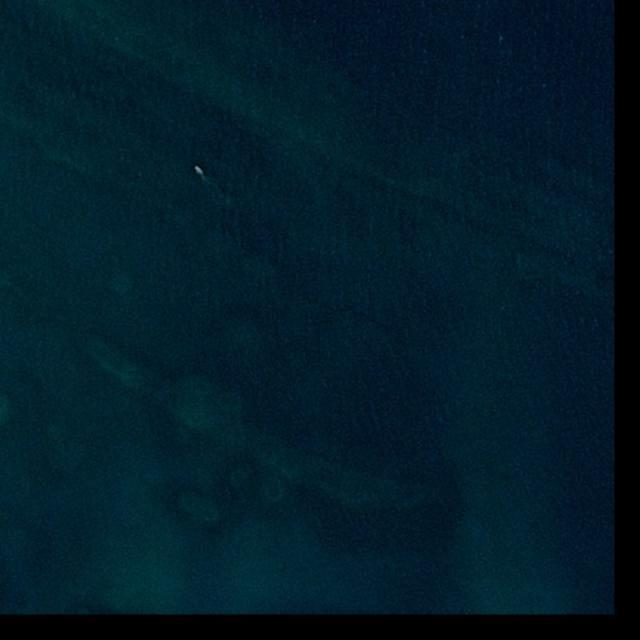ship: (194, 164, 206, 177)
